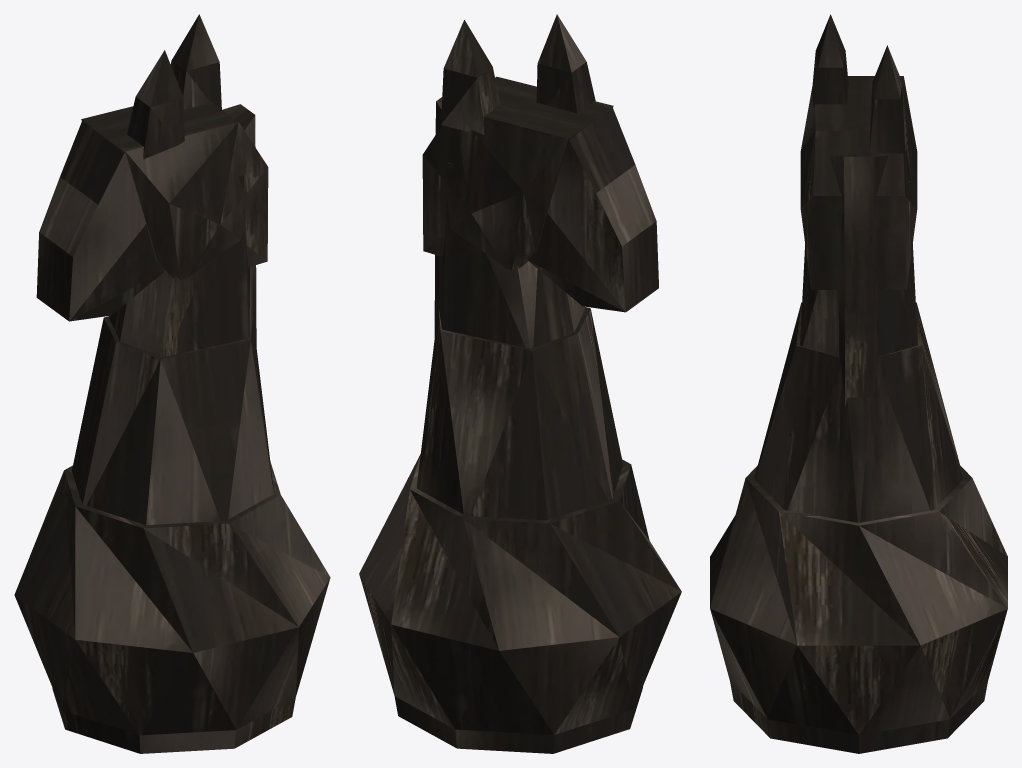
The model's file is lithoxyl_knight_black.glb.
3 views of the same model, side by side, from view 1: azimuth 30°, elevation 25°; view 2: azimuth 150°, elevation 25°; view 3: azimuth 270°, elevation 25° (orthographic). The views are drawn at different scales.
Visible parts, largest first — view 1: Lithoxyl_Knight_Onyx; view 2: Lithoxyl_Knight_Onyx; view 3: Lithoxyl_Knight_Onyx.
Boxes of the visible parts, <box> form: Lithoxyl_Knight_Onyx: <box>14,14,330,753</box>; Lithoxyl_Knight_Onyx: <box>359,14,681,753</box>; Lithoxyl_Knight_Onyx: <box>710,14,1007,753</box>.
Bounding box in the file's own units: 0.0255 × 0.064 × 0.0255.
Materials: 1 (1 with a texture image).
